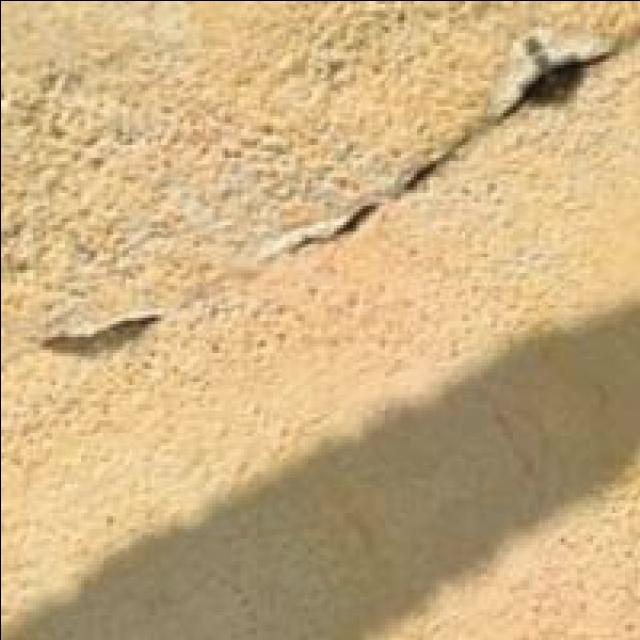SurfaceCrack: (256, 0, 640, 286), (30, 266, 170, 396)
